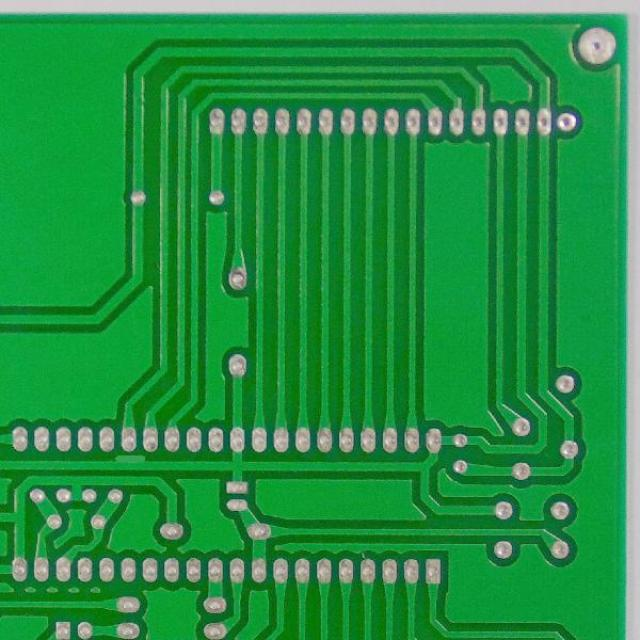Spur: (111, 450, 150, 474)
